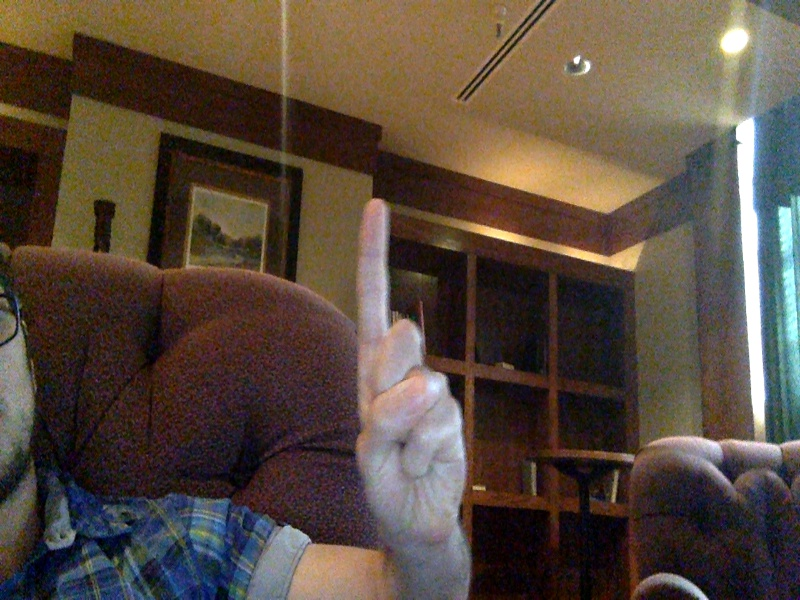1-hand: (354, 198, 465, 537)
